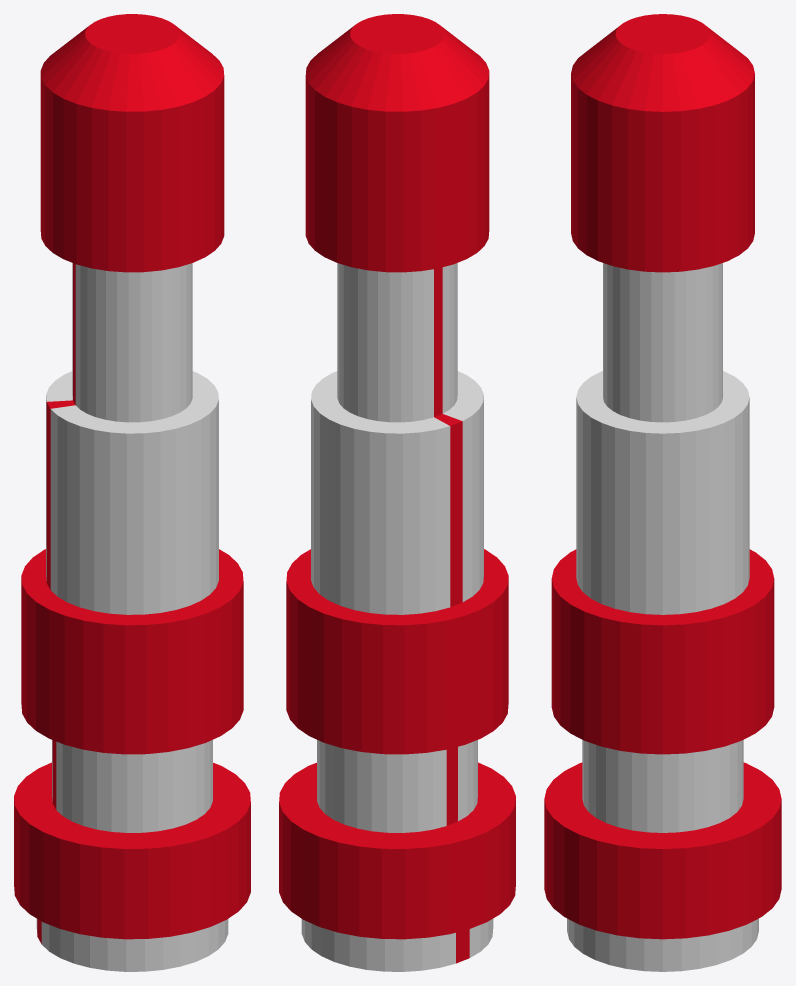
The model's file is PillarType1.fbx.
3 views of the same model, side by side, from view 1: azimuth 30°, elevation 25°; view 2: azimuth 150°, elevation 25°; view 3: azimuth 270°, elevation 25° (orthographic).
Visible parts, largest first — view 1: Circle; view 2: Circle; view 3: Circle.
Part boxes in pixels (left/top/right/bottom): Circle: left=14, top=14, right=250, bottom=971; Circle: left=279, top=14, right=515, bottom=971; Circle: left=544, top=14, right=781, bottom=971.
Size of the model in its own units: 248 by 1033 by 248.
